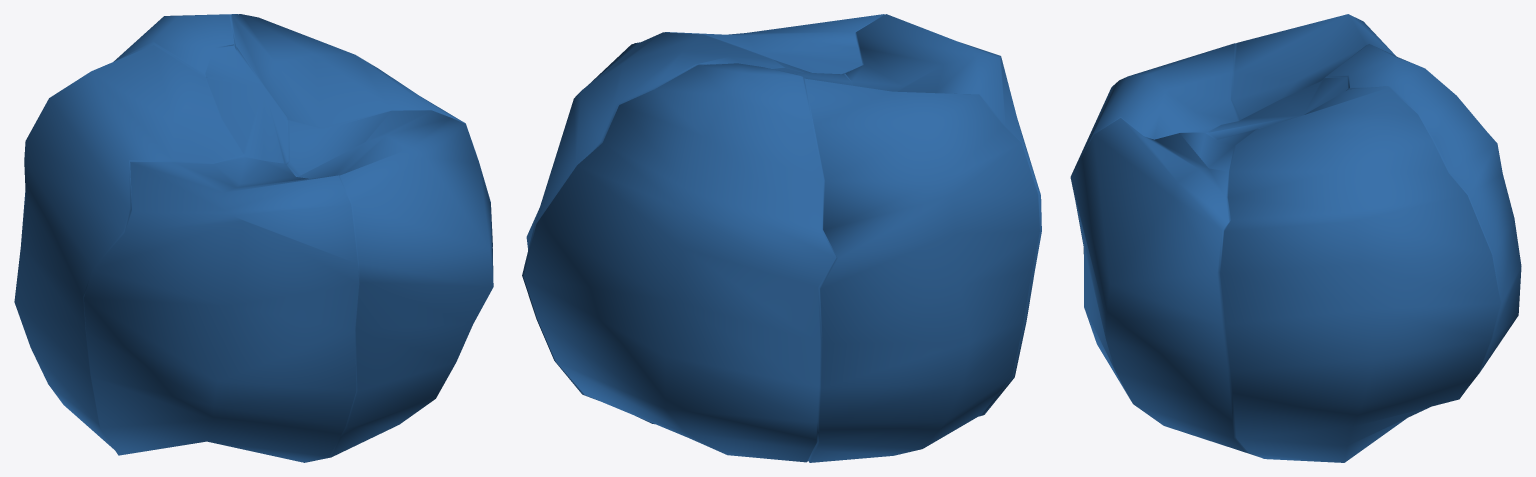
The model's file is bean1.fbx.
3 views of the same model, side by side, from view 1: azimuth 30°, elevation 25°; view 2: azimuth 150°, elevation 25°; view 3: azimuth 270°, elevation 25° (orthographic). The views are drawn at different scales.
Visible parts, largest first — view 1: Sphere; view 2: Sphere; view 3: Sphere.
Part boxes in pixels (box(x1,y1,x2,y2)): Sphere: box(14, 14, 493, 462); Sphere: box(522, 14, 1041, 462); Sphere: box(1070, 14, 1521, 462).
Size of the model in its own units: 186 by 160 by 186.
